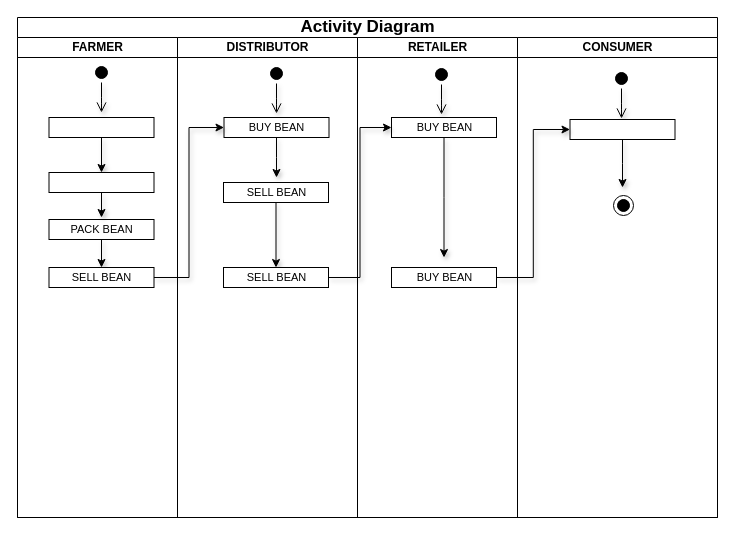
Some shapes in this 735 by 535 pixel diagram are drawn without their labels. The shapes that lost their labels are listed below. From the top down, each one's centre as x and y in pixels, then its label:
At point 101,127: "HARVEST BEAN".
At point 622,129: "PURCHASE BEAN".
At point 101,182: "PROCESS BEAN".
